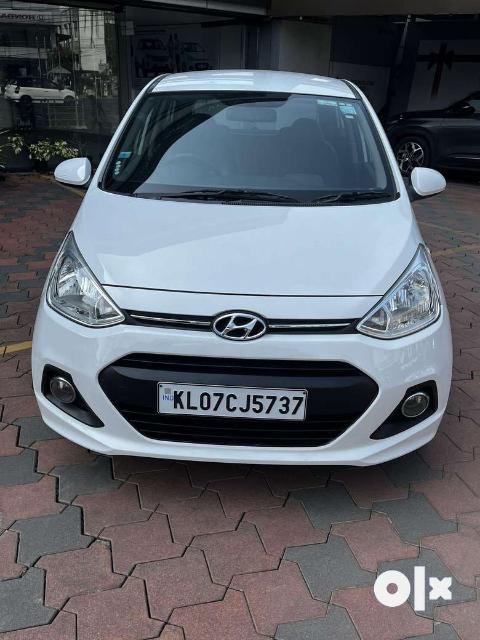Indian_Number_Plate: (157, 382, 307, 419)
